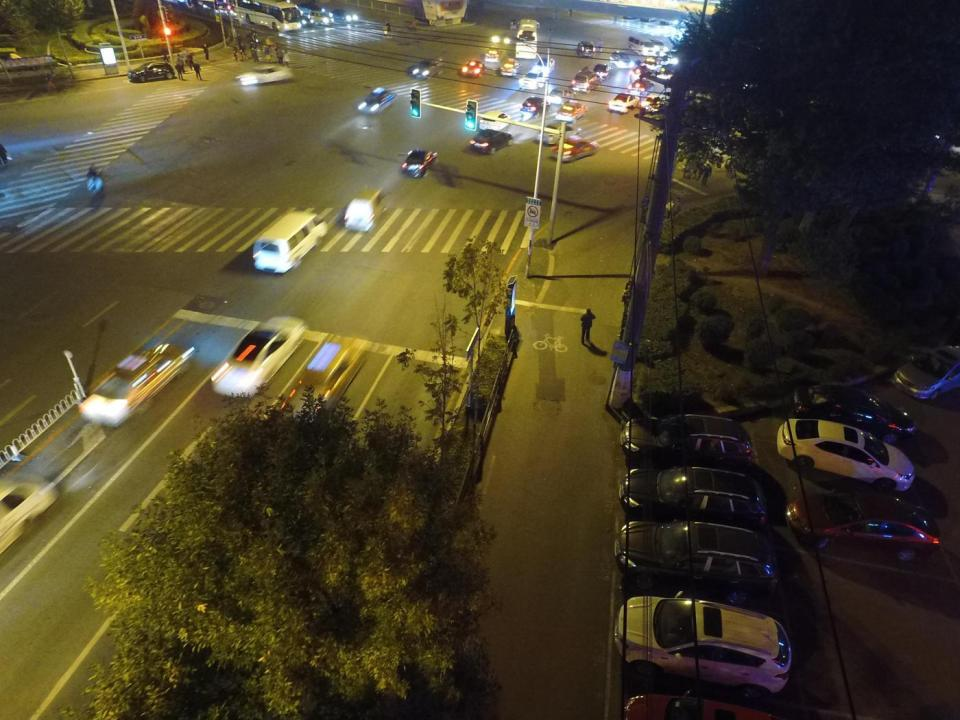bus: (227, 0, 300, 33), (517, 18, 540, 60)
car: (613, 594, 800, 699), (618, 512, 784, 602), (783, 484, 944, 564), (770, 413, 920, 494), (612, 459, 775, 526), (75, 339, 194, 425), (206, 309, 306, 405), (790, 373, 913, 440), (282, 332, 365, 428), (619, 414, 754, 471), (0, 468, 62, 564), (895, 344, 958, 398), (462, 126, 517, 157), (400, 144, 439, 180), (357, 84, 400, 116), (236, 65, 295, 87), (551, 137, 596, 162), (123, 63, 177, 82), (534, 119, 575, 144), (404, 55, 446, 79), (474, 106, 512, 130), (610, 88, 638, 118), (639, 87, 669, 115), (572, 66, 601, 93), (521, 94, 551, 120), (558, 98, 588, 121), (520, 68, 544, 96), (547, 84, 577, 106), (610, 47, 636, 70), (458, 60, 486, 80), (330, 6, 356, 27), (631, 76, 655, 98), (574, 38, 596, 59), (500, 55, 519, 78), (536, 55, 557, 75), (640, 56, 662, 74), (630, 66, 654, 82), (296, 13, 316, 31), (650, 36, 670, 54), (211, 0, 232, 17), (595, 63, 613, 82), (300, 1, 326, 14), (486, 45, 501, 64), (622, 8, 638, 21), (673, 16, 688, 29), (658, 14, 671, 27), (641, 12, 656, 23)
van: (252, 209, 330, 276), (343, 186, 384, 232), (625, 33, 660, 58), (308, 10, 332, 28)
